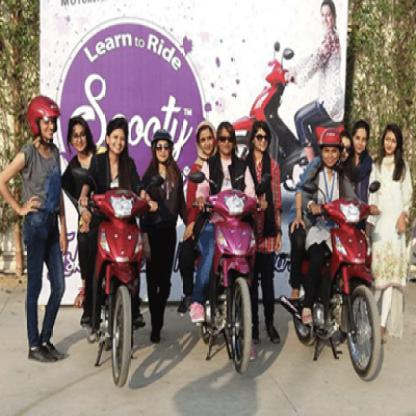With Helmet: (26, 88, 60, 142), (313, 122, 346, 168)
Without Helmet: (104, 115, 129, 158), (213, 117, 238, 158)
